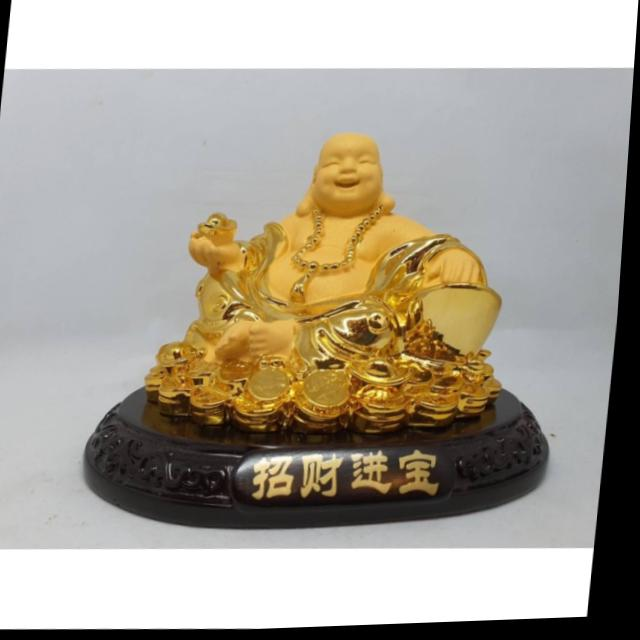Smiling Buddha: (215, 122, 463, 401)
